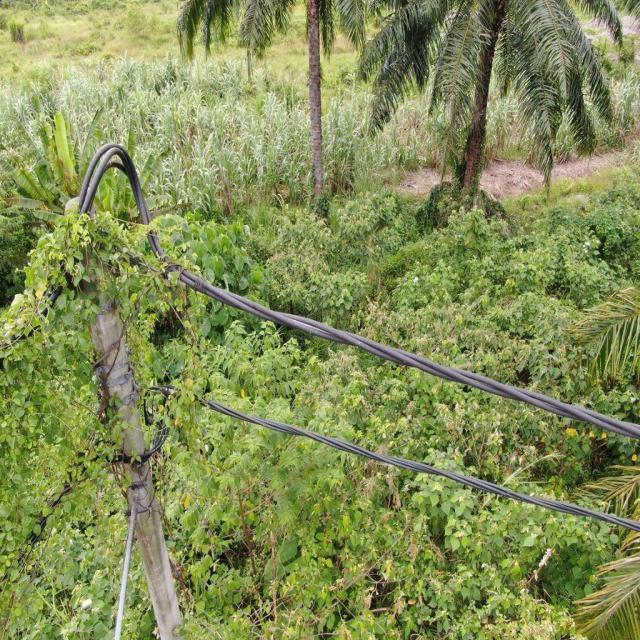critical vegetation: (14, 194, 215, 565)
